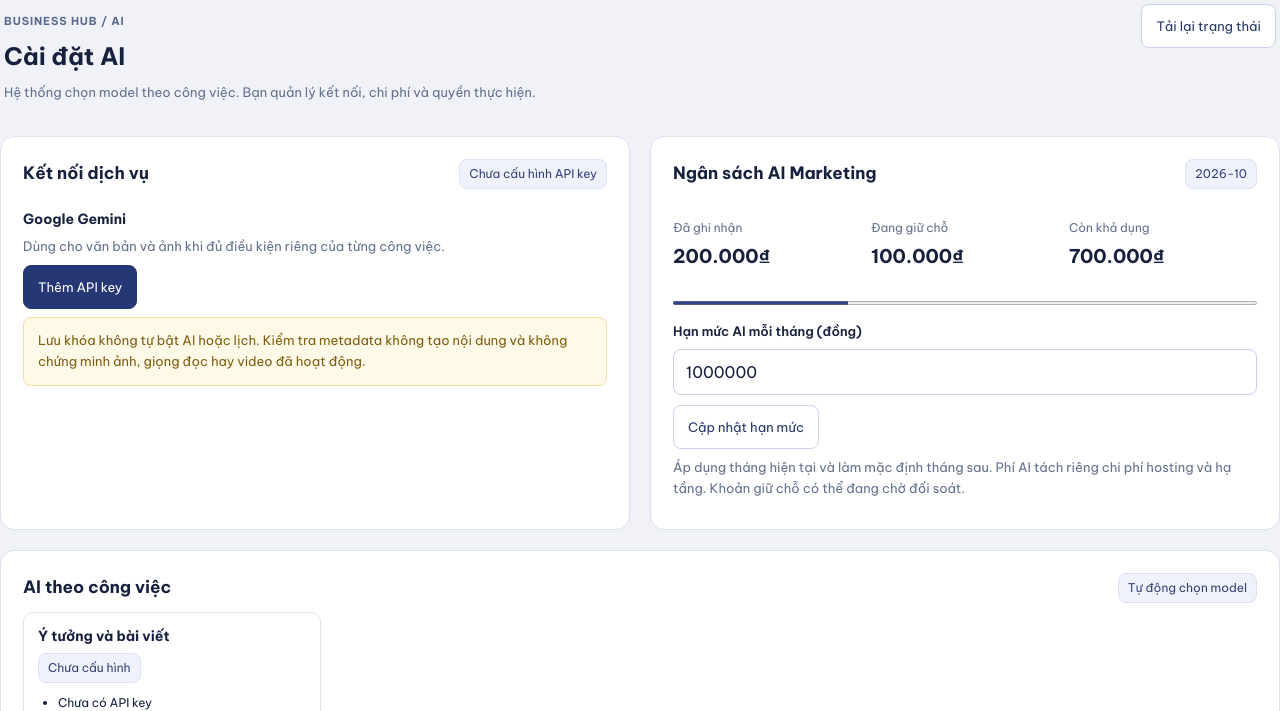
Test case: AI settings owner controls › validates committed budget and confirms a canonical update without enabling anything
This screenshot has width=1280, height=711.
Expected: the button "Thêm API key" is shown, left=23, top=265, right=137, bottom=309
Replace the text in the number field labelled "Hạn mức AI mỗi tháng (đồng)" with "100000" at [965, 372], box left=673, top=349, right=1257, bottom=395
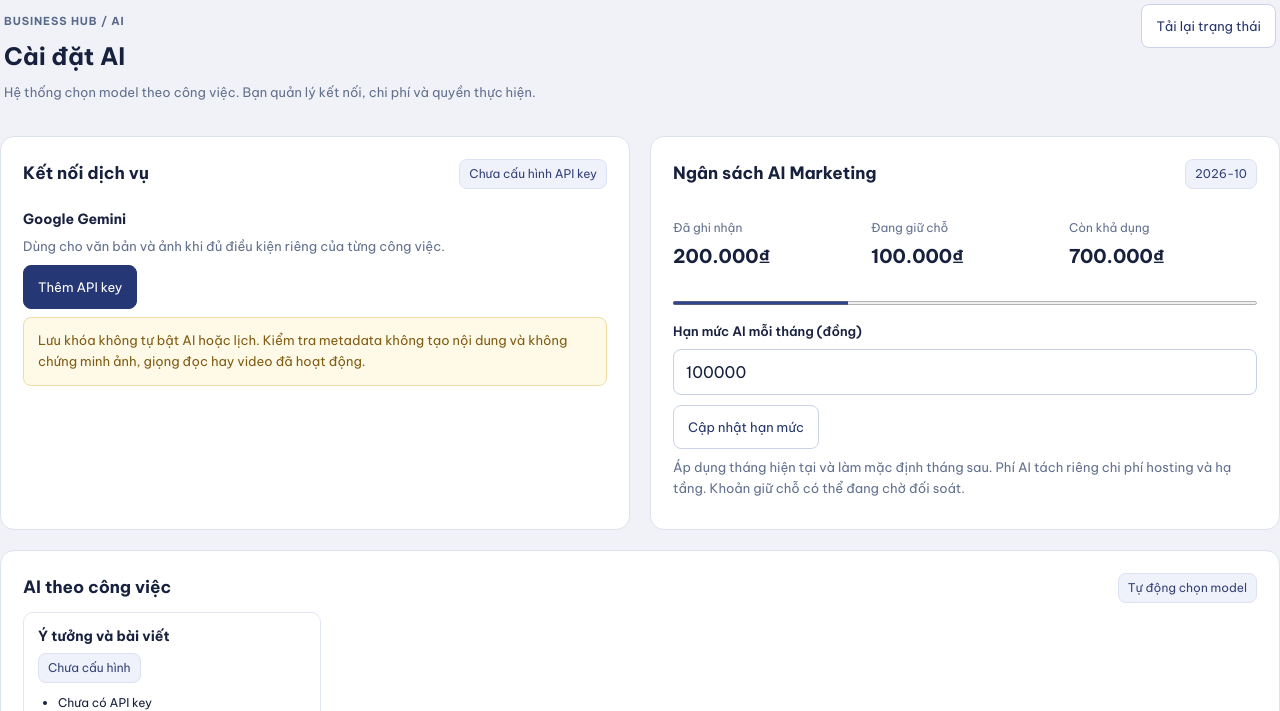
Click the button "Cập nhật hạn mức" at [746, 427], box left=673, top=405, right=819, bottom=449
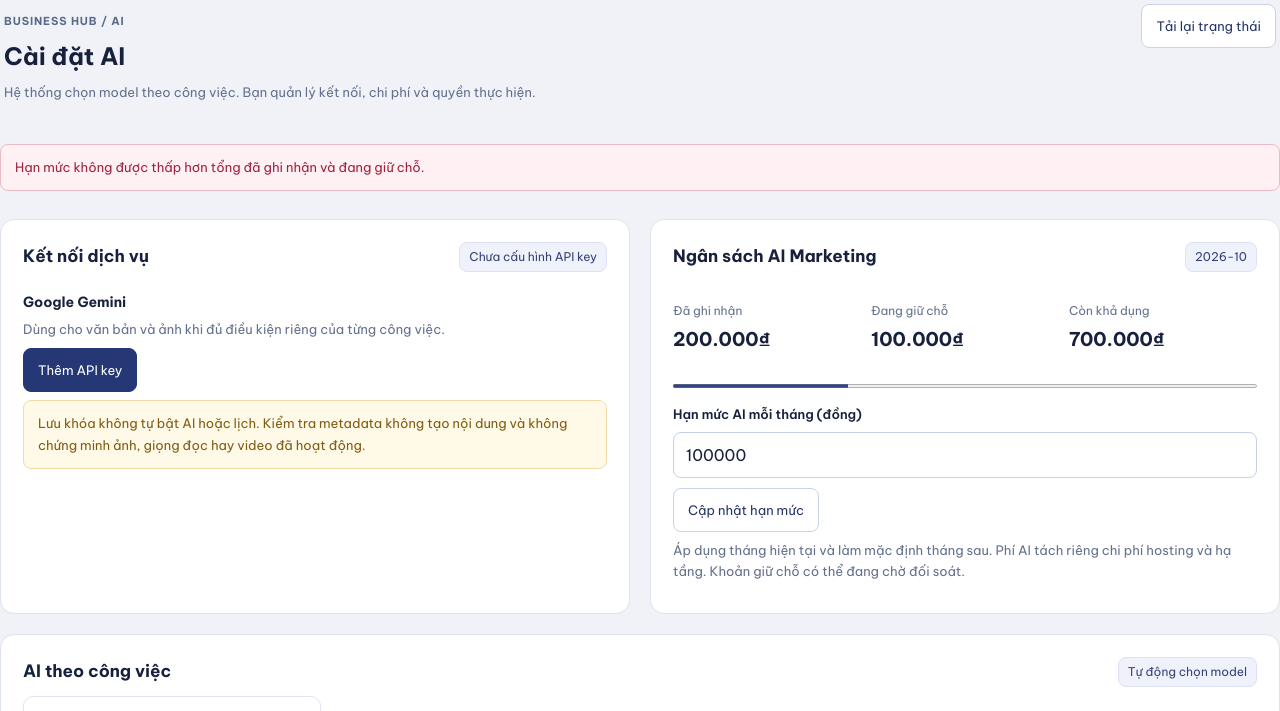
Result: the message shows "đã ghi nhận và đang giữ chỗ" at left=15, top=159, right=425, bottom=175
Replace the text in the number field labelled "Hạn mức AI mỗi tháng (đồng)" with "500000" at [965, 455], box left=673, top=432, right=1257, bottom=478
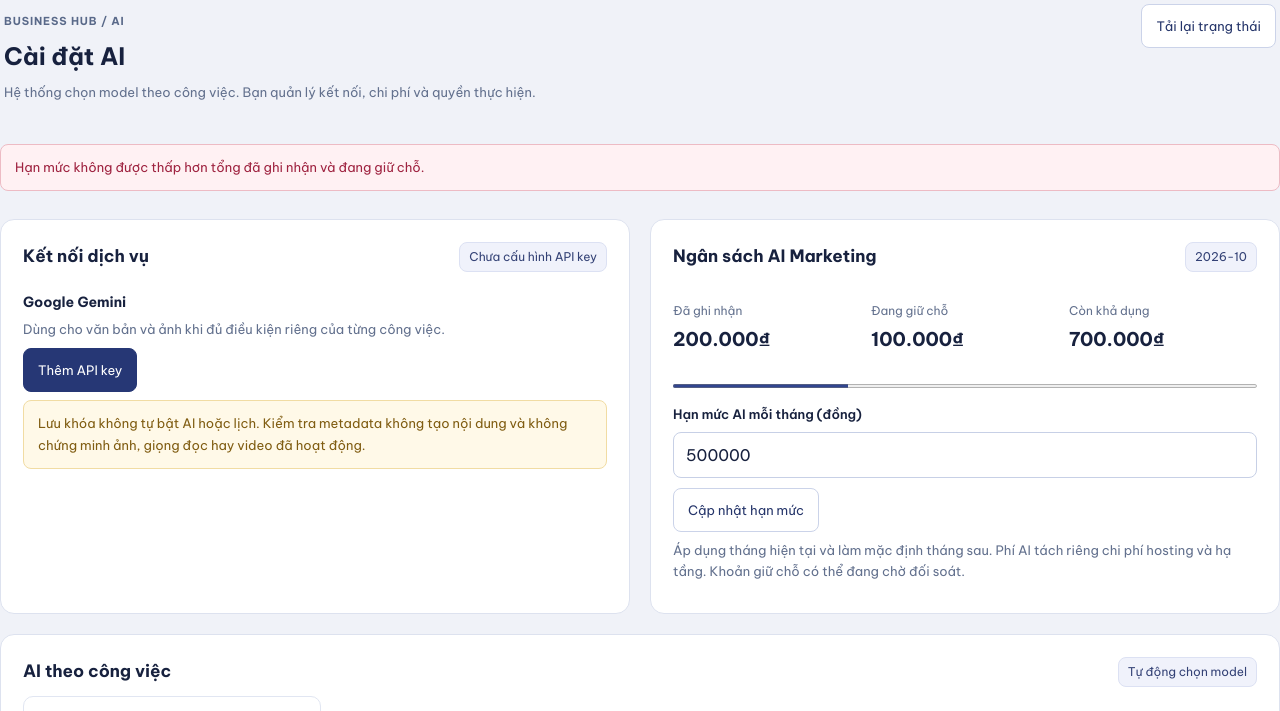
Click the button "Cập nhật hạn mức" at [746, 510], box left=673, top=488, right=819, bottom=532
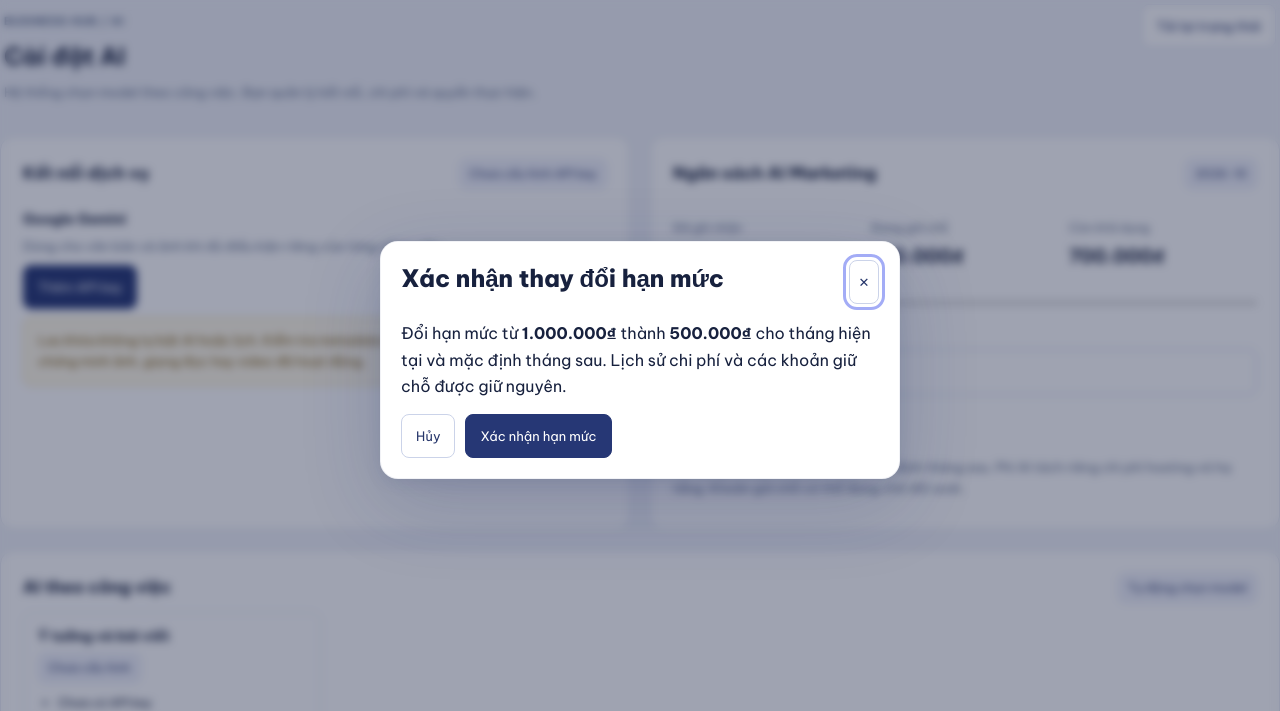
Click the button "Xác nhận hạn mức" at [538, 436], box left=466, top=414, right=612, bottom=458
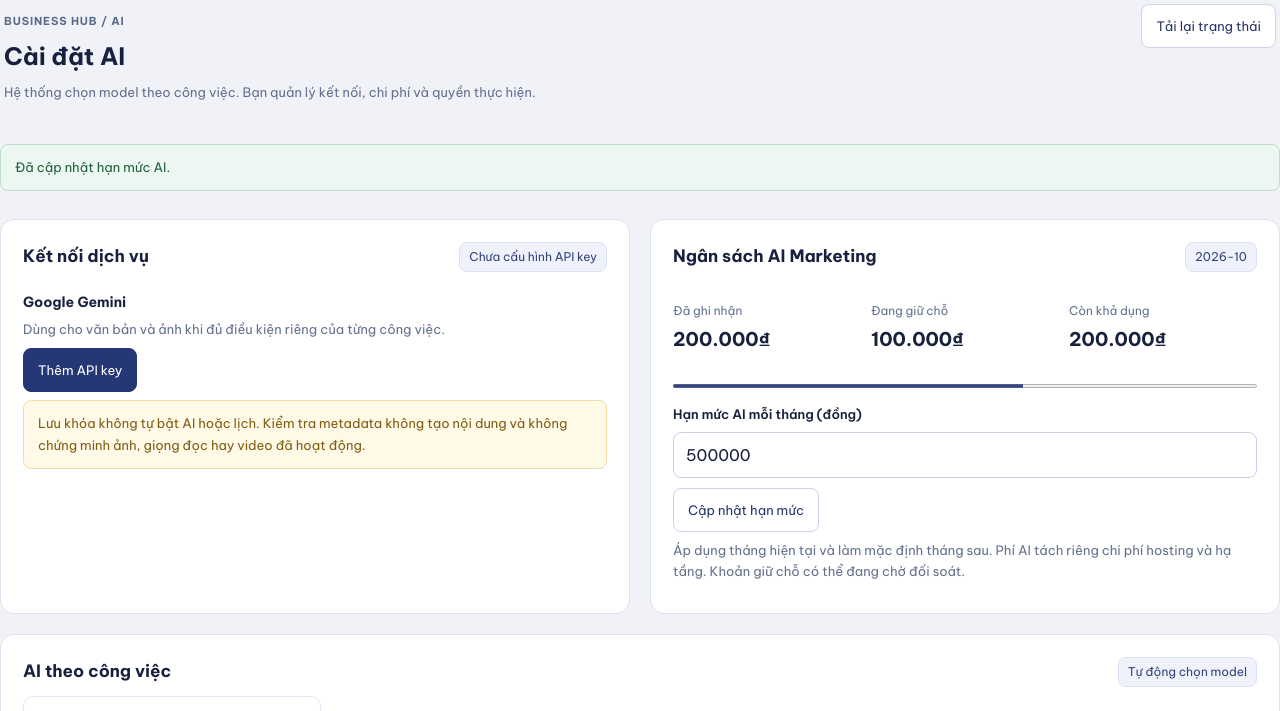
Result: the text "Đã cập nhật hạn mức AI." is shown at left=0, top=144, right=1279, bottom=191
